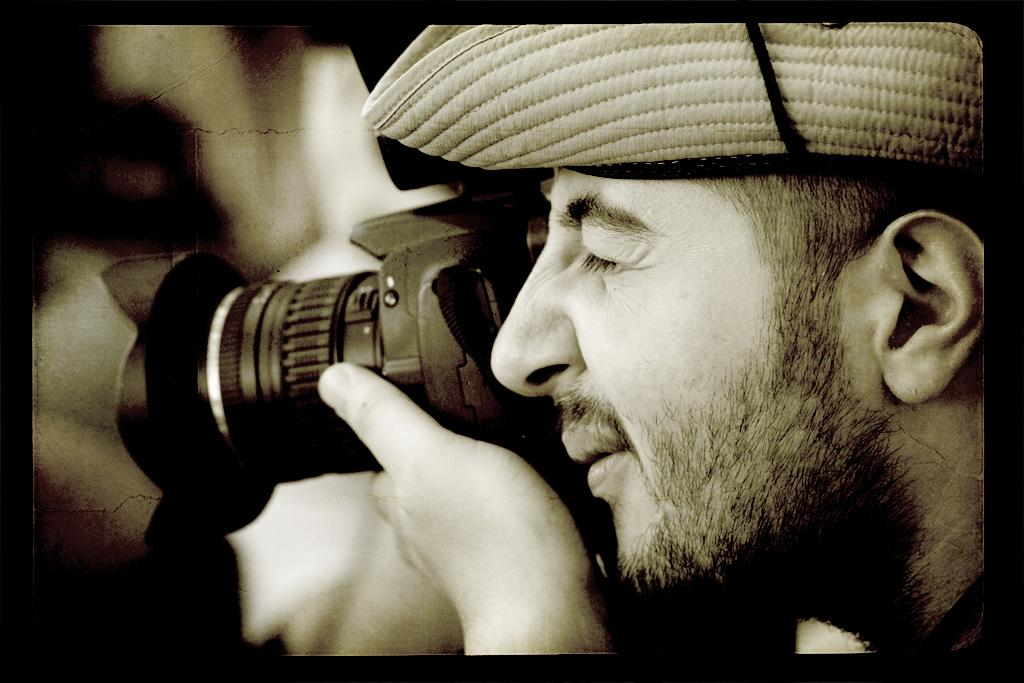Hat: (360, 26, 982, 173)
